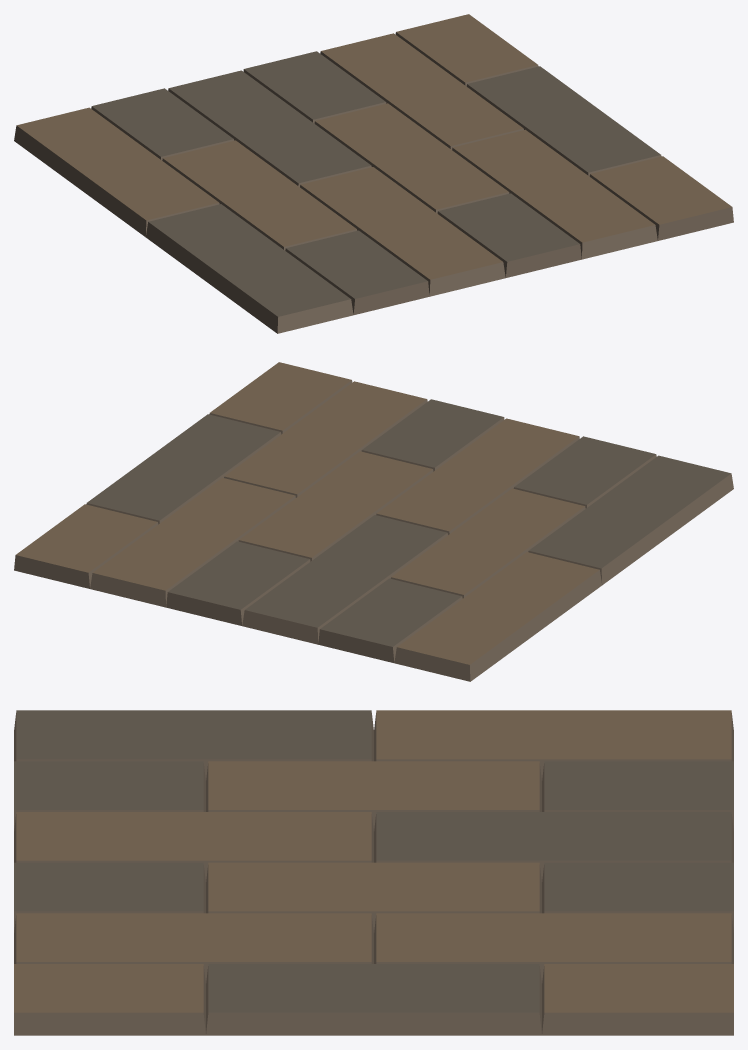
Rendered from victorian_floor_wood.fbx.
3 renders of one model, top to bottom at view 1: azimuth 30°, elevation 25°; view 2: azimuth 150°, elevation 25°; view 3: azimuth 270°, elevation 25°, orthographic. The views are drawn at different scales.
Visible parts, largest first — view 1: Cube.269; view 2: Cube.269; view 3: Cube.269.
Boxes of the visible parts, x1=… form: Cube.269: x1=14, y1=14, x2=733, y2=333; Cube.269: x1=14, y1=362, x2=733, y2=681; Cube.269: x1=14, y1=710, x2=733, y2=1035.
Size of the model in its own units: 300 by 10 by 300.
